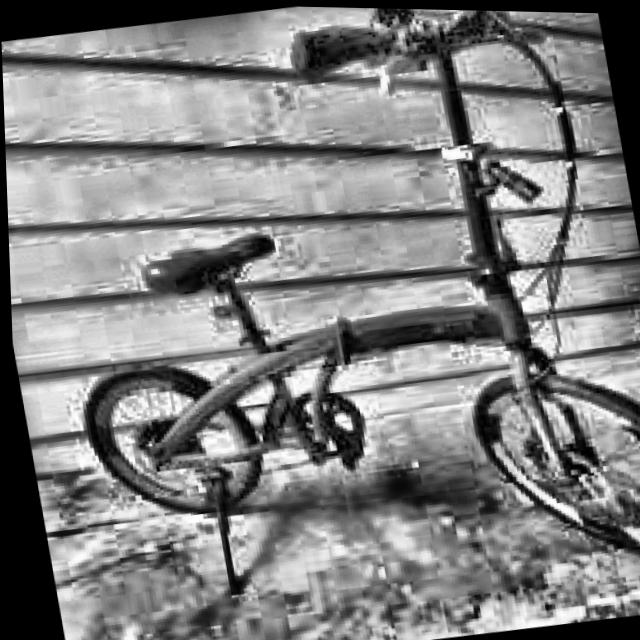bike: (26, 0, 640, 640)
